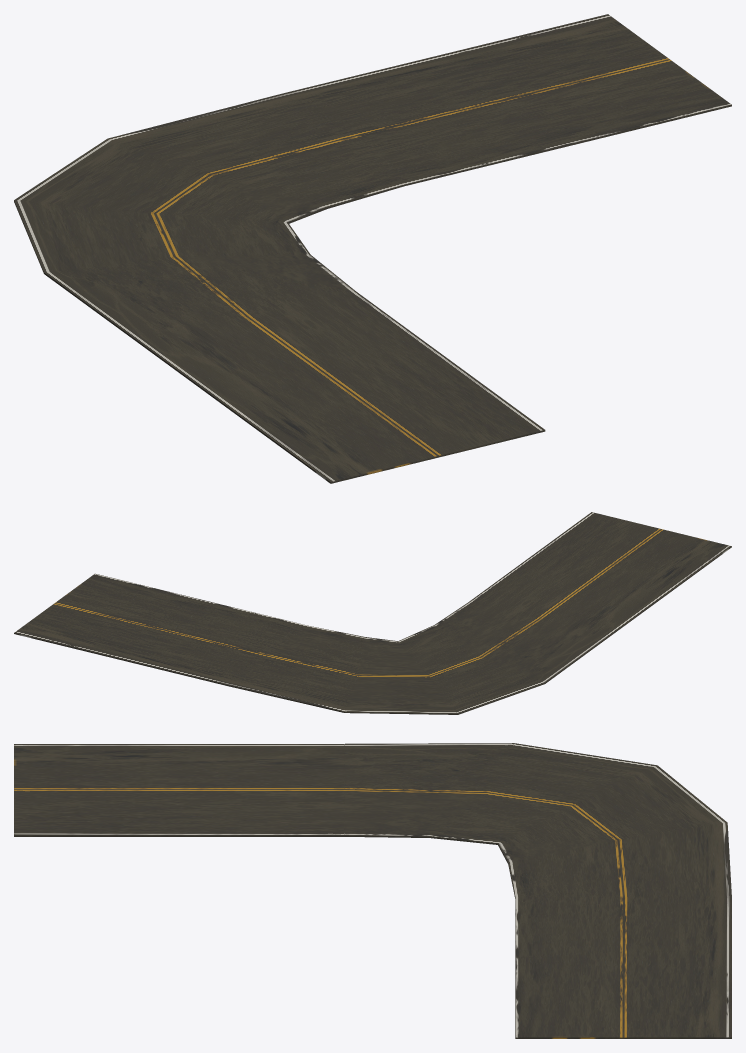
The model's file is Road_Way_Turn.fbx.
3 views of the same model, one above another, from view 1: azimuth 30°, elevation 25°; view 2: azimuth 150°, elevation 25°; view 3: azimuth 270°, elevation 25° (orthographic). The views are drawn at different scales.
Visible parts, largest first — view 1: Road.006; view 2: Road.006; view 3: Road.006.
Boxes of the visible parts, x1=… form: Road.006: x1=14, y1=14, x2=731, y2=483; Road.006: x1=14, y1=512, x2=731, y2=714; Road.006: x1=14, y1=743, x2=731, y2=1038.
Size of the model in its own units: 1100 by 3.28 by 1136.
1 material, 1 textured.
